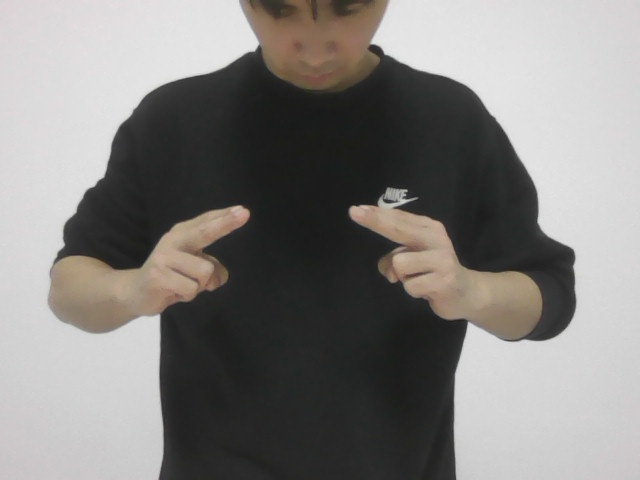know: (125, 200, 471, 341)
